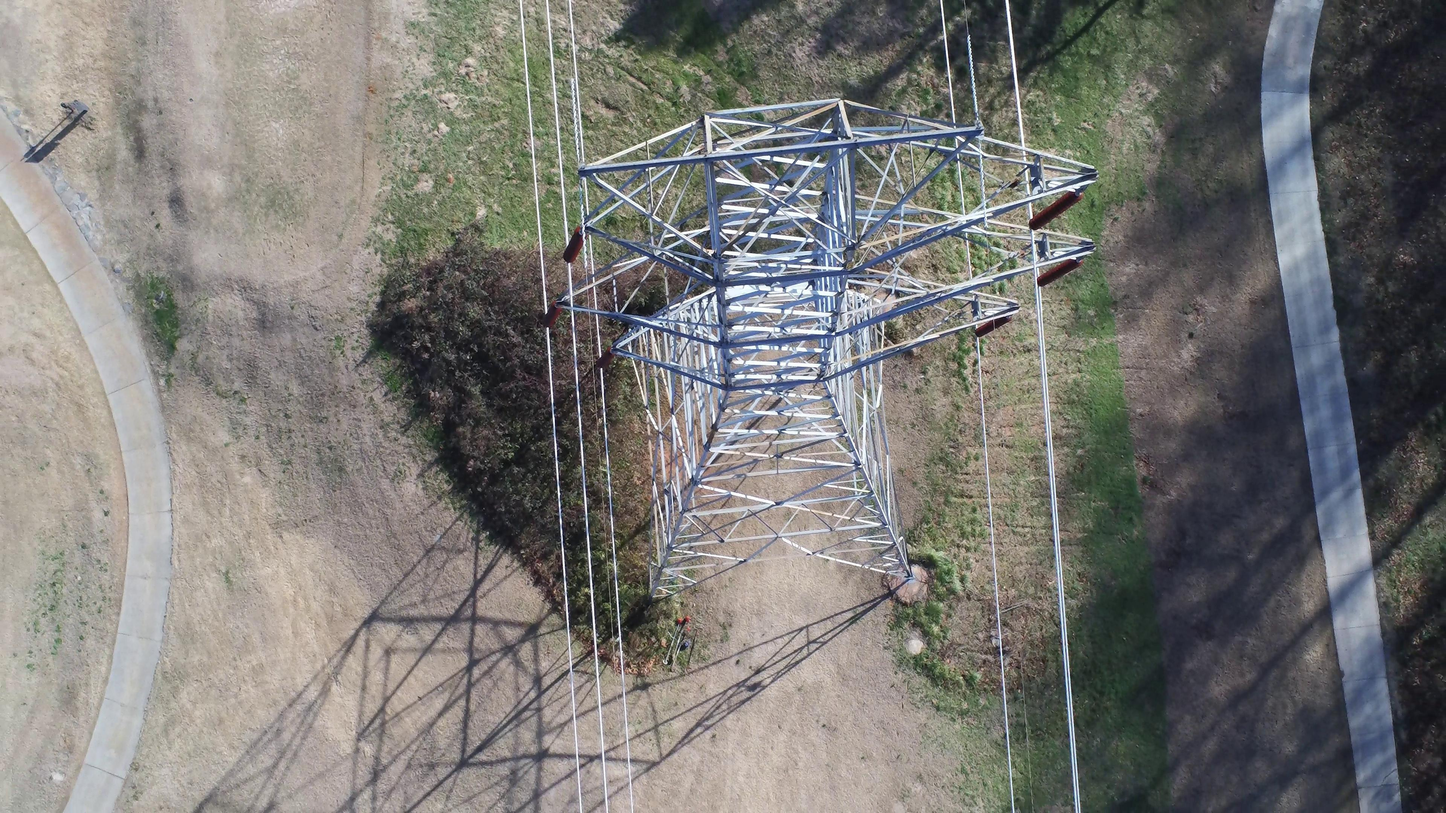power_tower: (544, 98, 1099, 608)
